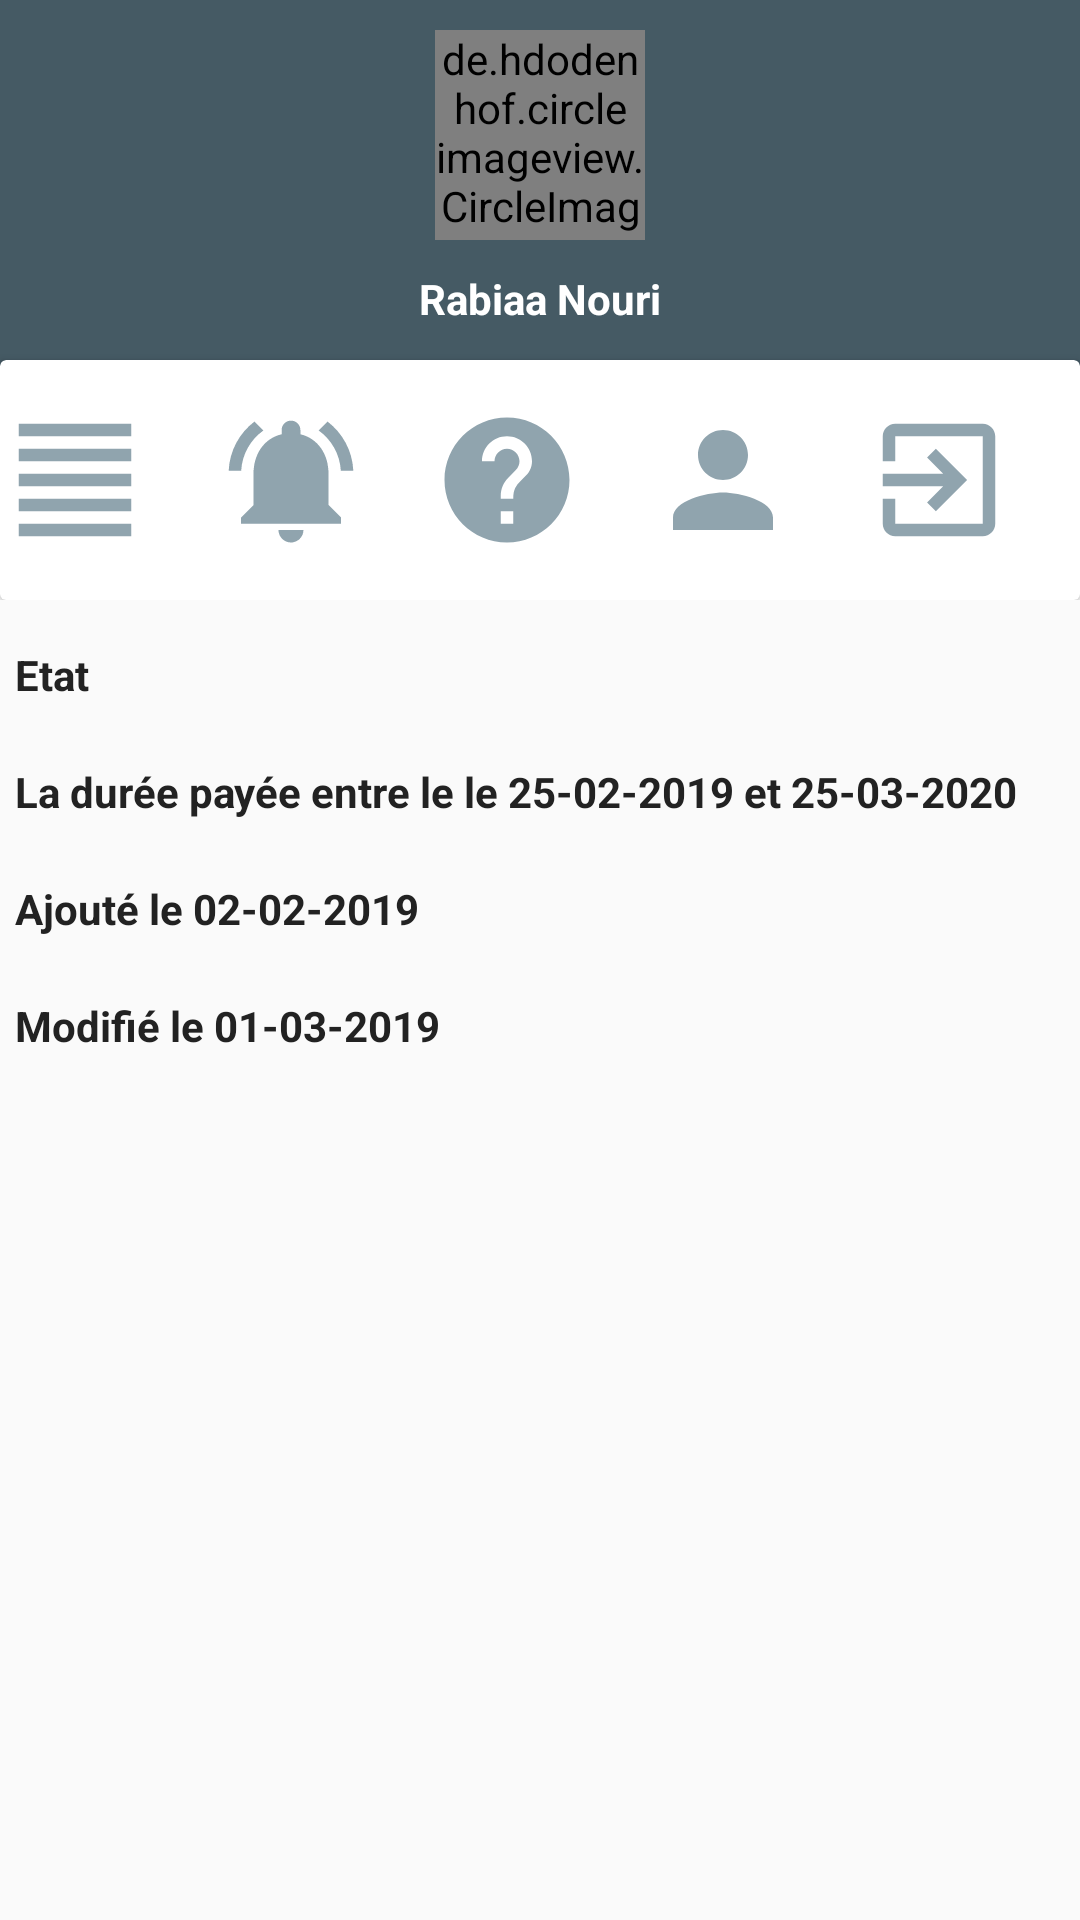

Icon bounding boxes for this 1080*1920 phone screenshot, format (x1, y1, x2, y2):
help: (444, 417, 570, 543)
notifications: (228, 420, 354, 543)
person: (673, 430, 773, 530)
